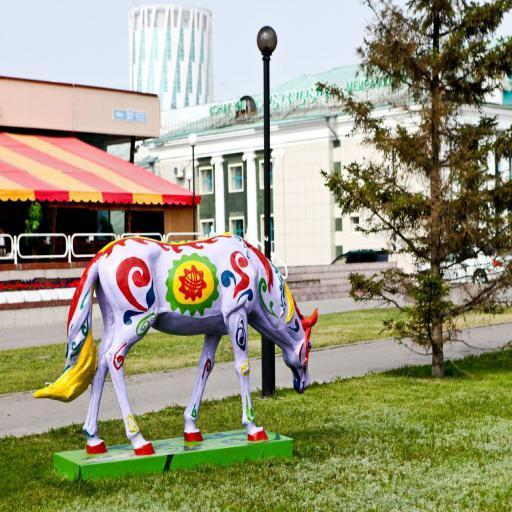horse: (33, 229, 319, 458)
